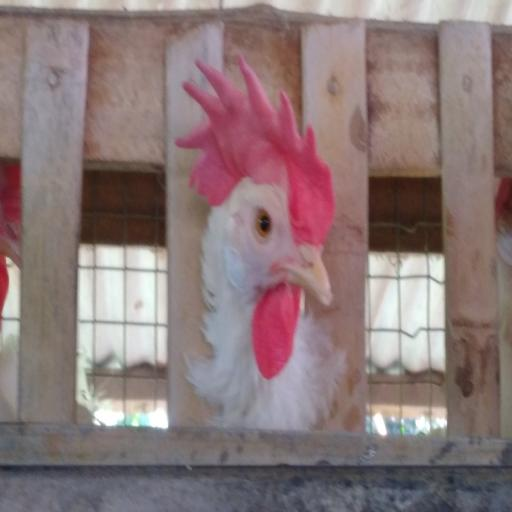healthy: (208, 79, 328, 325)
